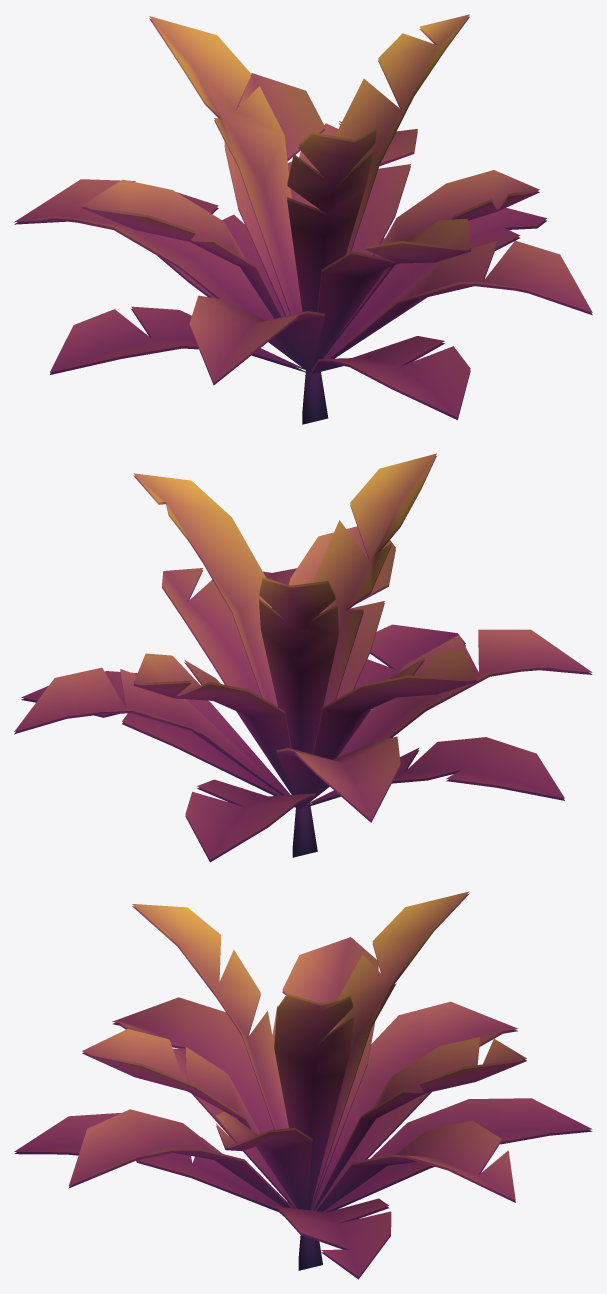
File: Fern_2B.fbx
The picture shows the model from 3 angles, top to bottom: view 1: azimuth 30°, elevation 25°; view 2: azimuth 150°, elevation 25°; view 3: azimuth 270°, elevation 25°; orthographic projection. The views are drawn at different scales.
Parts seen in each view (by area): view 1: Fern_2B; view 2: Fern_2B; view 3: Fern_2B.
Boxes of the visible parts, x1=… form: Fern_2B: x1=14, y1=14, x2=592, y2=424; Fern_2B: x1=14, y1=453, x2=592, y2=862; Fern_2B: x1=14, y1=891, x2=592, y2=1279.
Bounding box in the file's own units: 172 × 111 × 171.
